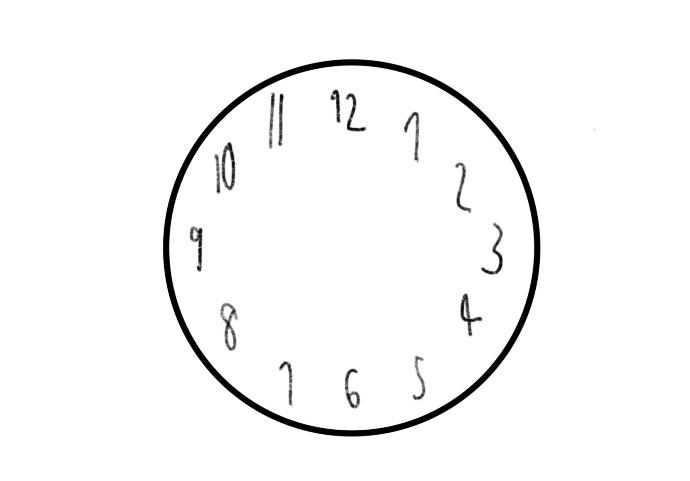eight: (216, 298, 242, 353)
eleven: (267, 91, 285, 151)
five: (408, 347, 429, 405)
four: (459, 290, 485, 336)
nine: (184, 222, 206, 275)
one: (401, 105, 426, 165)
seven: (276, 355, 297, 410)
six: (341, 364, 363, 409)
ten: (210, 143, 239, 194)
three: (478, 217, 506, 277)
twelve: (327, 85, 371, 137)
two: (452, 159, 476, 217)
